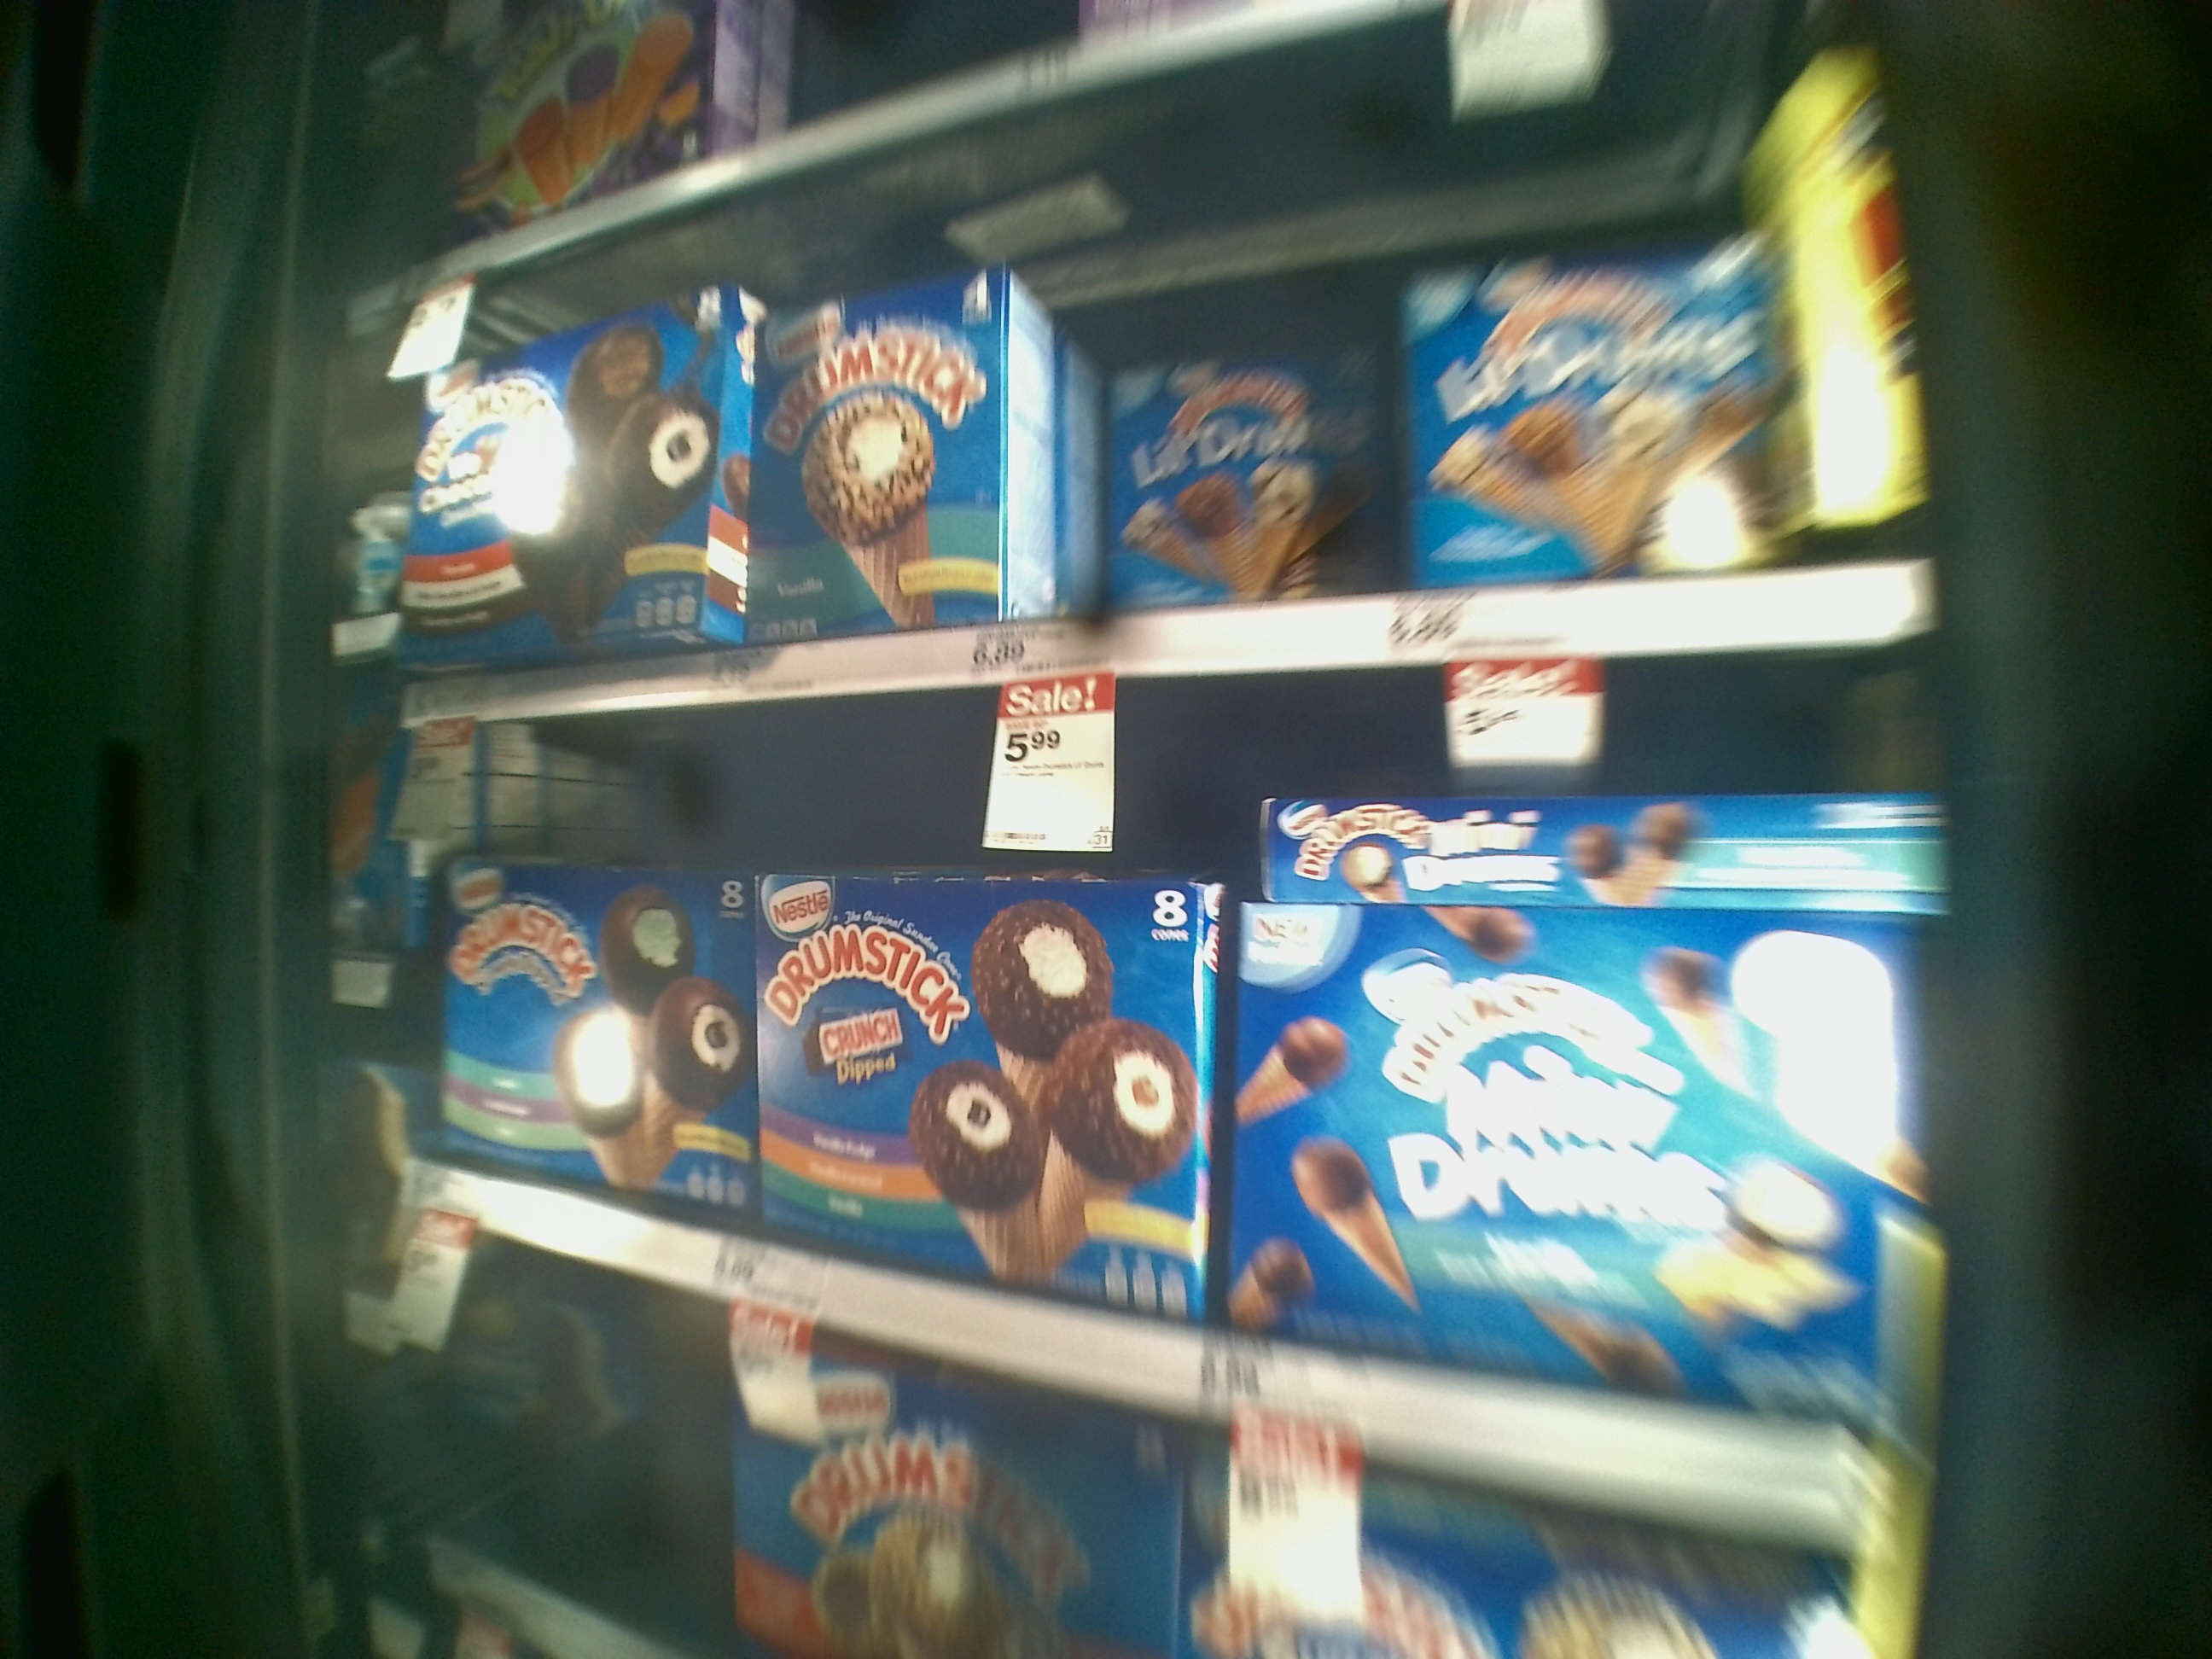shelf: (383, 641, 1942, 1556)
